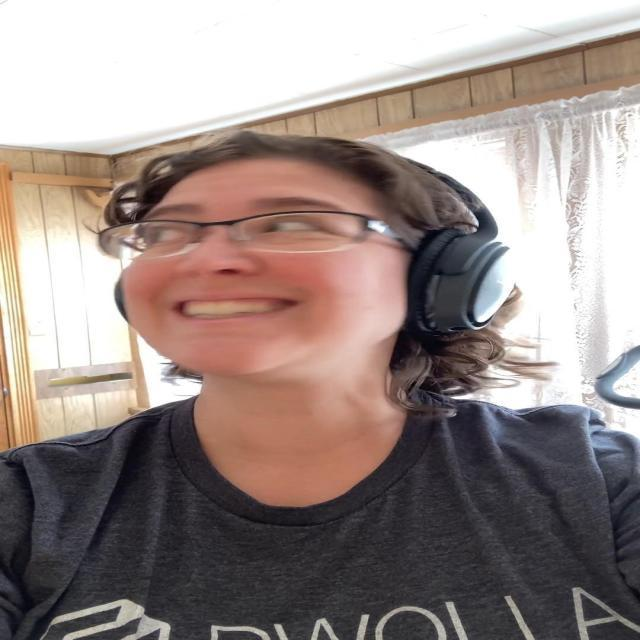no hat: (116, 158, 408, 378)
